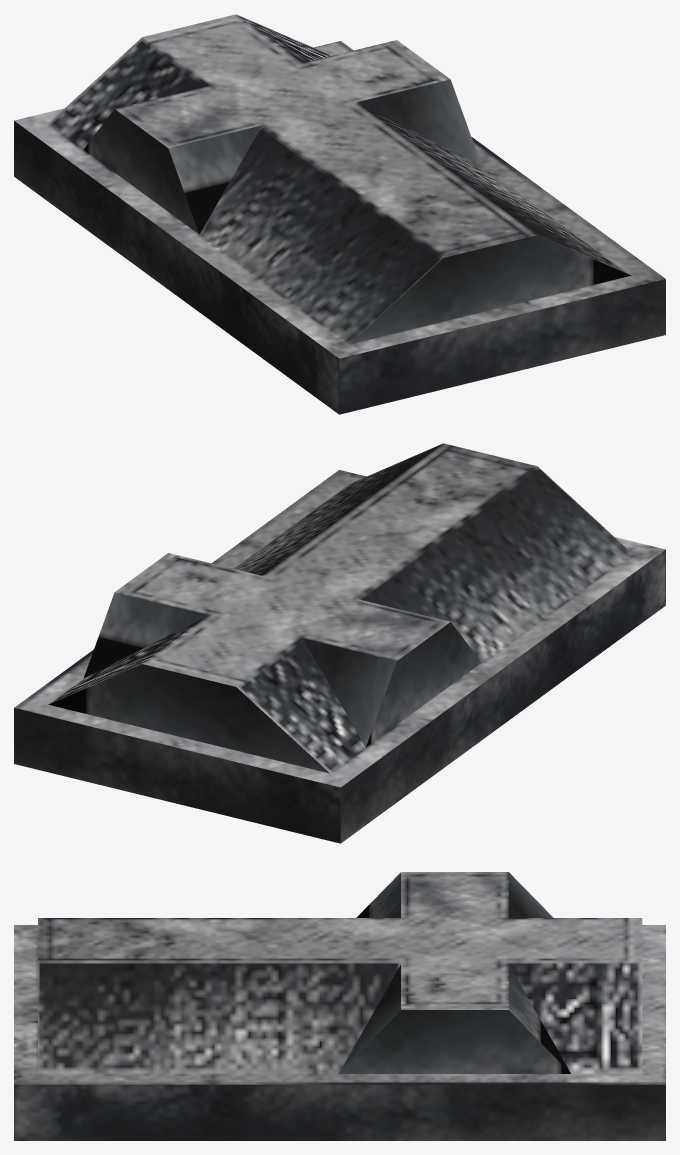
Rendered from Tomb02.glb.
3 renders of one model, top to bottom at view 1: azimuth 30°, elevation 25°; view 2: azimuth 150°, elevation 25°; view 3: azimuth 270°, elevation 25°, orthographic.
Visible parts, largest first — view 1: Tomb02; view 2: Tomb02; view 3: Tomb02.
Boxes of the visible parts, left/top/right/bottom form: Tomb02: left=14, top=14, right=665, bottom=414; Tomb02: left=14, top=443, right=665, bottom=843; Tomb02: left=14, top=872, right=665, bottom=1140.
Size of the model in its own units: 1.41 by 0.4923 by 2.42.
1 material, 1 textured.
